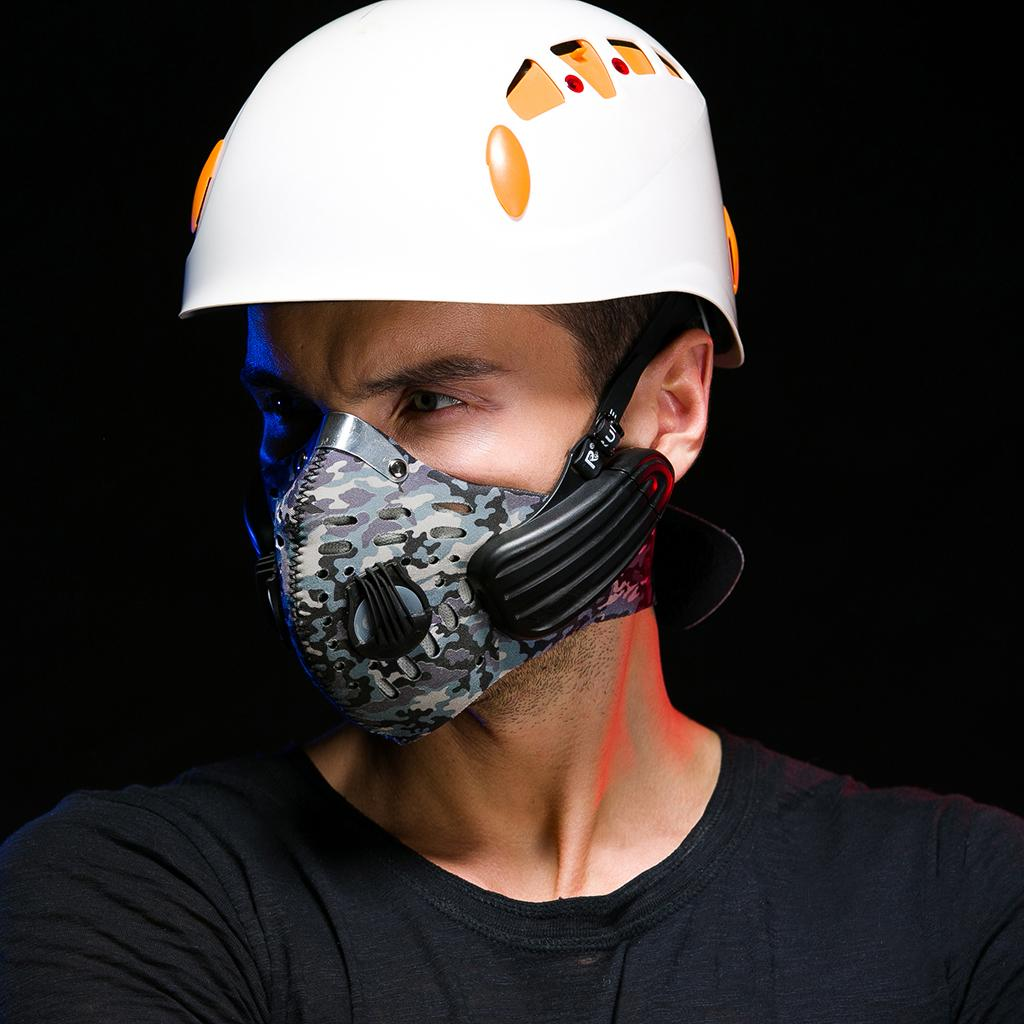Wearing Mask: (113, 0, 818, 802)
